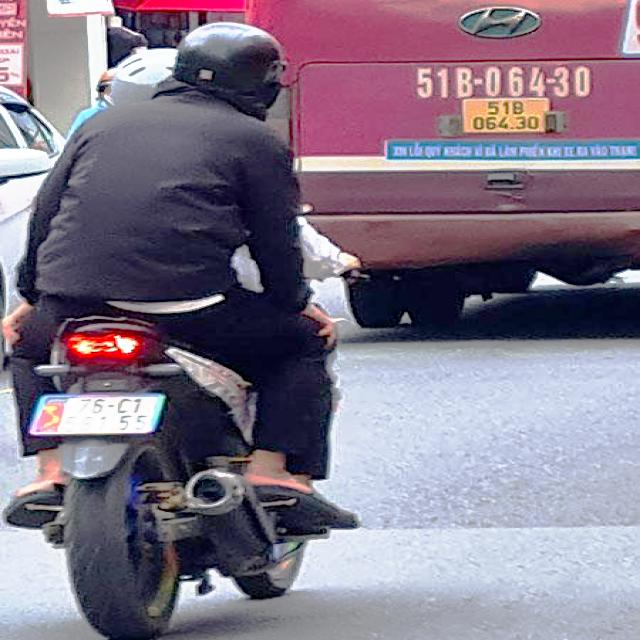license_plate: (32, 395, 164, 436), (464, 98, 547, 134)
